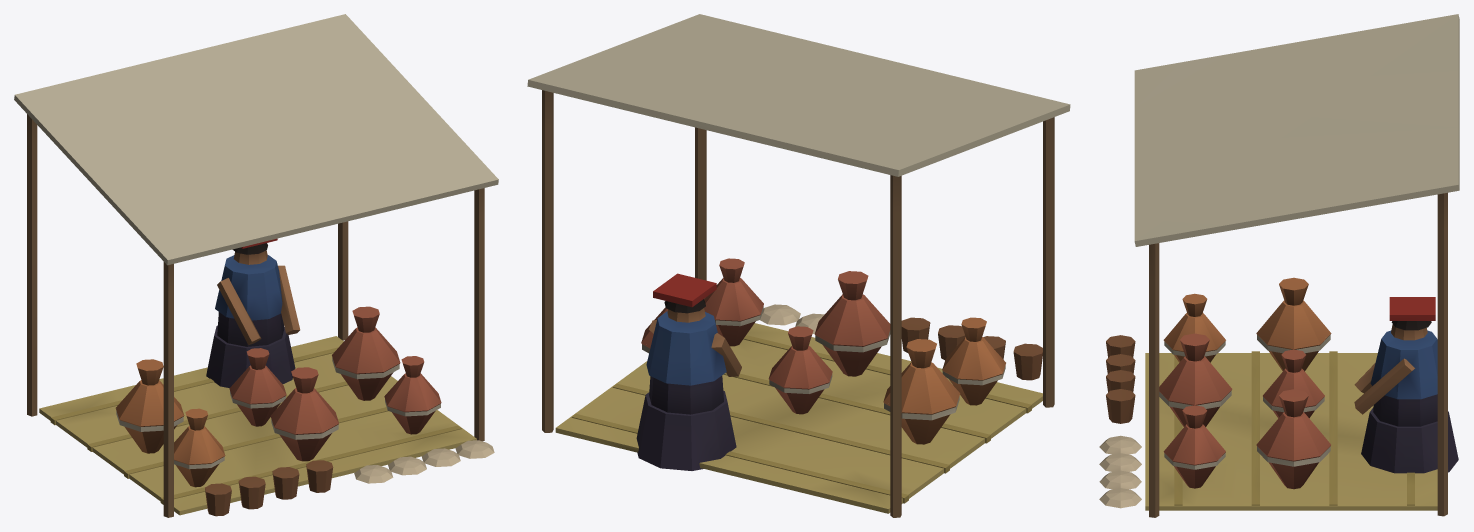
The model's file is stall-pots.glb.
3 views of the same model, side by side, from view 1: azimuth 30°, elevation 25°; view 2: azimuth 150°, elevation 25°; view 3: azimuth 270°, elevation 25° (orthographic). The views are drawn at different scales.
Parts seen in each view (by area): view 1: base; view 2: base; view 3: base.
Boxes of the visible parts, x1,y1,x2,y2 form: base: (14, 14, 498, 517); base: (527, 14, 1070, 517); base: (1099, 14, 1459, 517).
Bounding box in the file's own units: 2.45 × 2.25 × 2.19.
